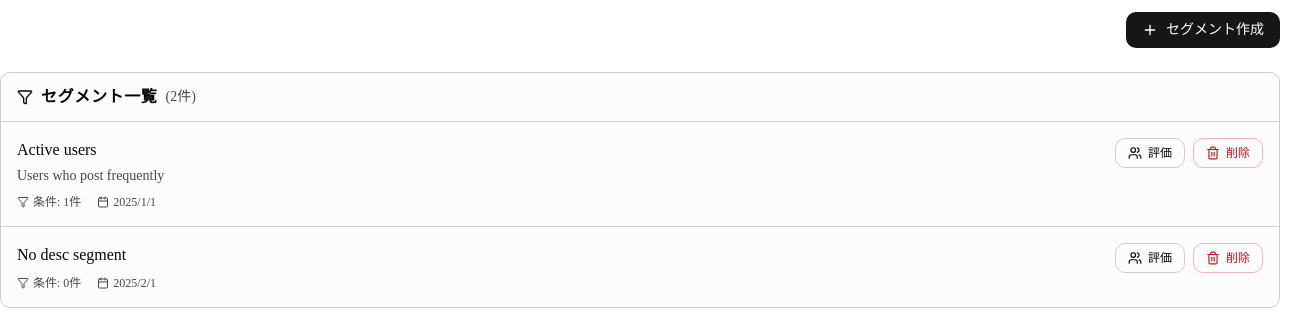
Test case: SegmentBuilder › evaluates a segment and shows count
Click the button "評価" in the row of "Active users": (1150, 153) [1115,138,1185,168]
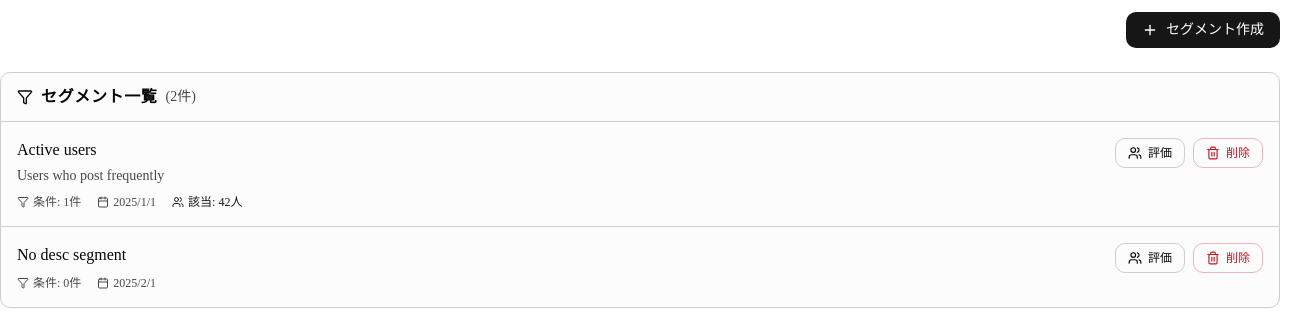
Now the text "該当: 42人" is shown, box [172,194,242,210]
